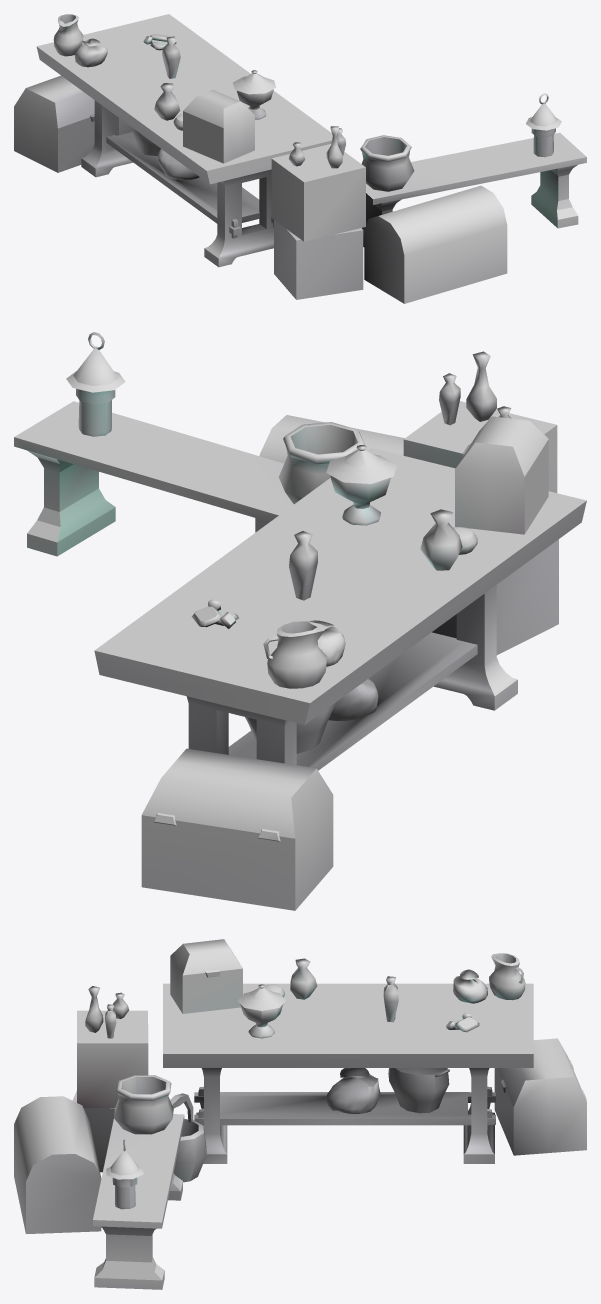
File: alchemy-table.glb
3 renders of one model, top to bottom at view 1: azimuth 30°, elevation 25°; view 2: azimuth 150°, elevation 25°; view 3: azimuth 270°, elevation 25°, orthographic. The views are drawn at different scales.
Parts seen in each view (by area): view 1: alchemy table:0; view 2: alchemy table:0; view 3: alchemy table:0.
Boxes of the visible parts, bbox=[...] form: alchemy table:0: bbox=[14, 14, 586, 303]; alchemy table:0: bbox=[14, 332, 586, 910]; alchemy table:0: bbox=[14, 939, 586, 1289].
Bounding box in the file's own units: 13.01 × 5.71 × 16.51.
